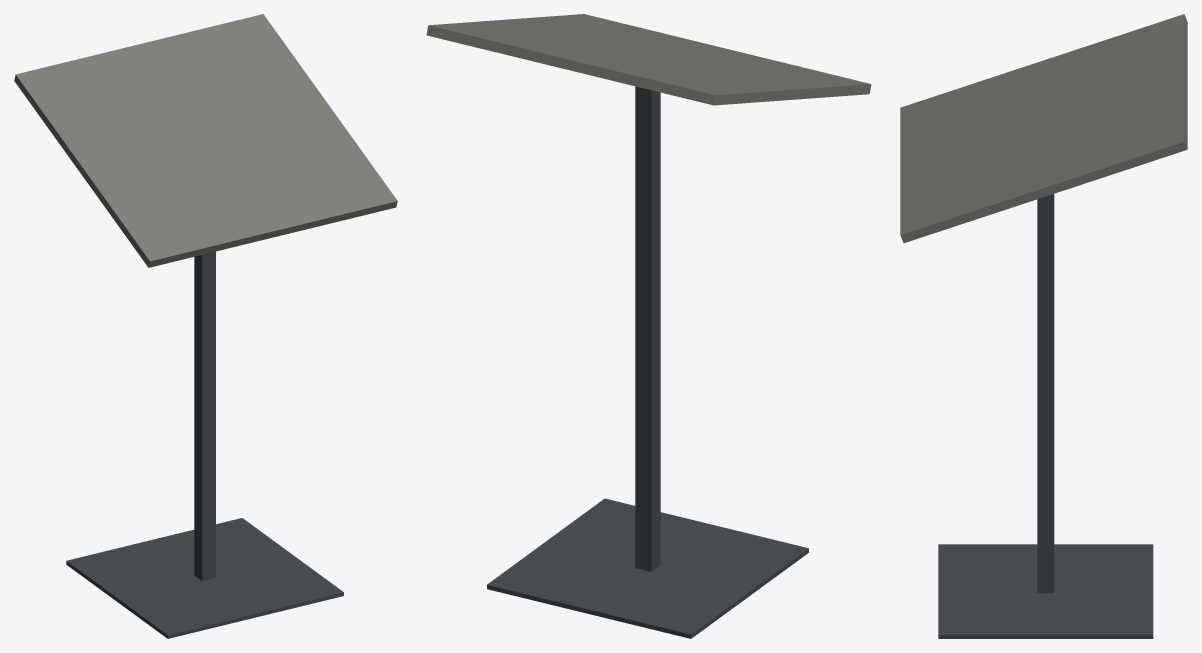
File: infodesksmall.glb
3 renders of one model, left to right at view 1: azimuth 30°, elevation 25°; view 2: azimuth 150°, elevation 25°; view 3: azimuth 270°, elevation 25°, orthographic. The views are drawn at different scales.
Visible parts, largest first — view 1: InfoDeskSmall; view 2: InfoDeskSmall; view 3: InfoDeskSmall.
Boxes of the visible parts, x1,y1,x2,y2 form: InfoDeskSmall: (14, 14, 397, 638); InfoDeskSmall: (426, 14, 871, 638); InfoDeskSmall: (900, 14, 1187, 638).
Bounding box in the file's own units: 0.4251 × 0.8004 × 0.404.
1 material, 1 textured.
